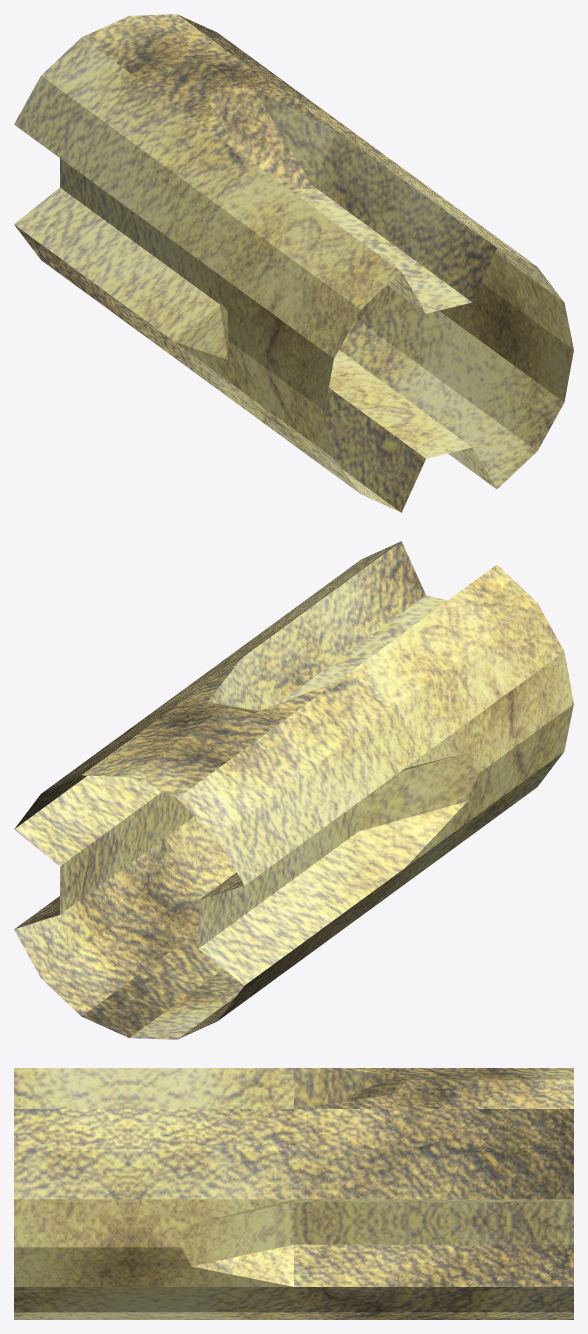
Rendered from femur_tibia_inner.dae.
3 renders of one model, top to bottom at view 1: azimuth 30°, elevation 25°; view 2: azimuth 150°, elevation 25°; view 3: azimuth 270°, elevation 25°, orthographic. The views are drawn at different scales.
Parts seen in each view (by area): view 1: Femur_Inner; view 2: Femur_Inner; view 3: Femur_Inner.
Part boxes in pixels (x1,y1,x2,y2): Femur_Inner: [14, 14, 573, 512]; Femur_Inner: [14, 541, 573, 1039]; Femur_Inner: [14, 1068, 573, 1319].
Size of the model in its own units: 0.18 by 0.4 by 0.18.
1 material, 1 textured.
